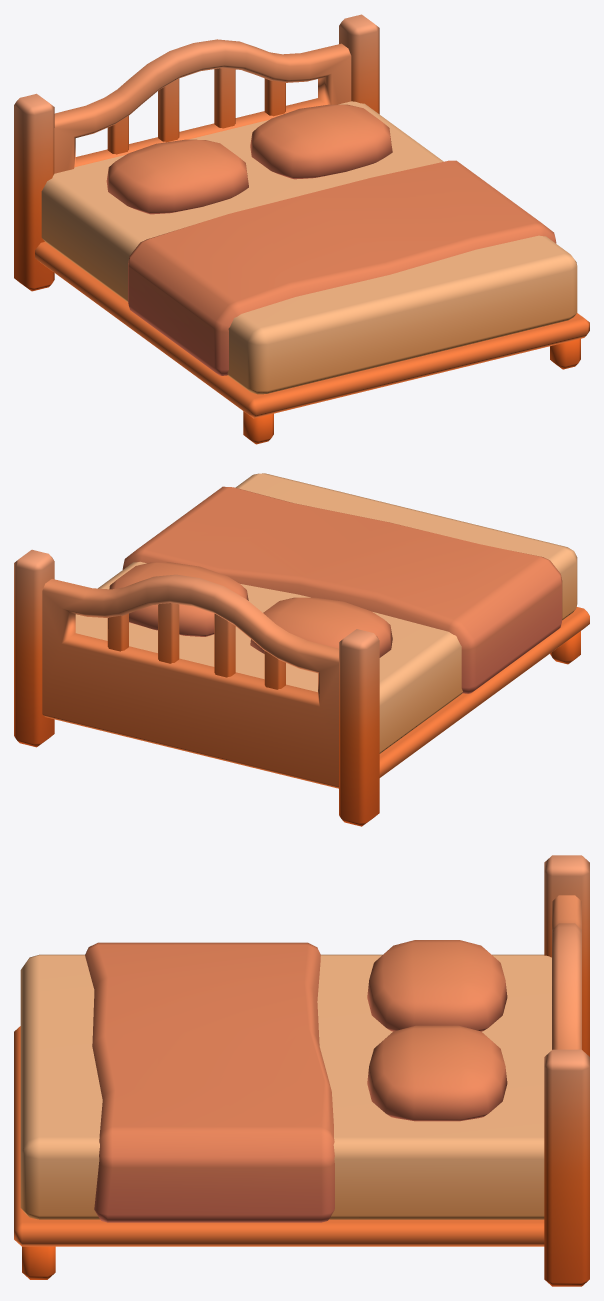
File: Furniture_Bedroom_2.fbx
The picture shows the model from 3 angles, top to bottom: view 1: azimuth 30°, elevation 25°; view 2: azimuth 150°, elevation 25°; view 3: azimuth 270°, elevation 25°; orthographic projection. The views are drawn at different scales.
Parts seen in each view (by area): view 1: Furniture_Bedroom_2; view 2: Furniture_Bedroom_2; view 3: Furniture_Bedroom_2.
Boxes of the visible parts, box(x1,y1,x2,y2) form: Furniture_Bedroom_2: box(14, 14, 589, 444); Furniture_Bedroom_2: box(14, 473, 589, 826); Furniture_Bedroom_2: box(14, 855, 589, 1286).
Bounding box in the file's own units: 300 × 162 × 346.
